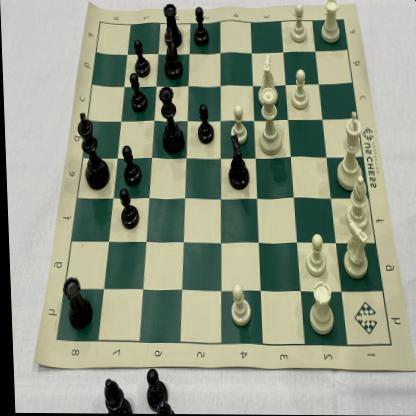black-king: (75, 109, 114, 192)
black-knight: (223, 134, 251, 193), (161, 25, 182, 80)
black-pawn: (119, 144, 142, 188), (116, 188, 139, 232), (130, 36, 151, 80), (195, 102, 216, 146), (191, 5, 211, 48), (128, 72, 146, 116)
black-queen: (156, 85, 187, 157)
black-rook: (59, 272, 91, 330), (160, 2, 184, 49)
white-bishop: (304, 280, 334, 338), (342, 174, 372, 232)
white-king: (332, 109, 366, 193)
white-knight: (338, 220, 370, 279), (255, 50, 279, 108)
white-pawn: (300, 232, 329, 280), (226, 280, 253, 328), (288, 66, 310, 112), (288, 1, 310, 45), (228, 103, 249, 147)
white-queen: (253, 88, 287, 158)
white-rook: (317, 0, 344, 45)
